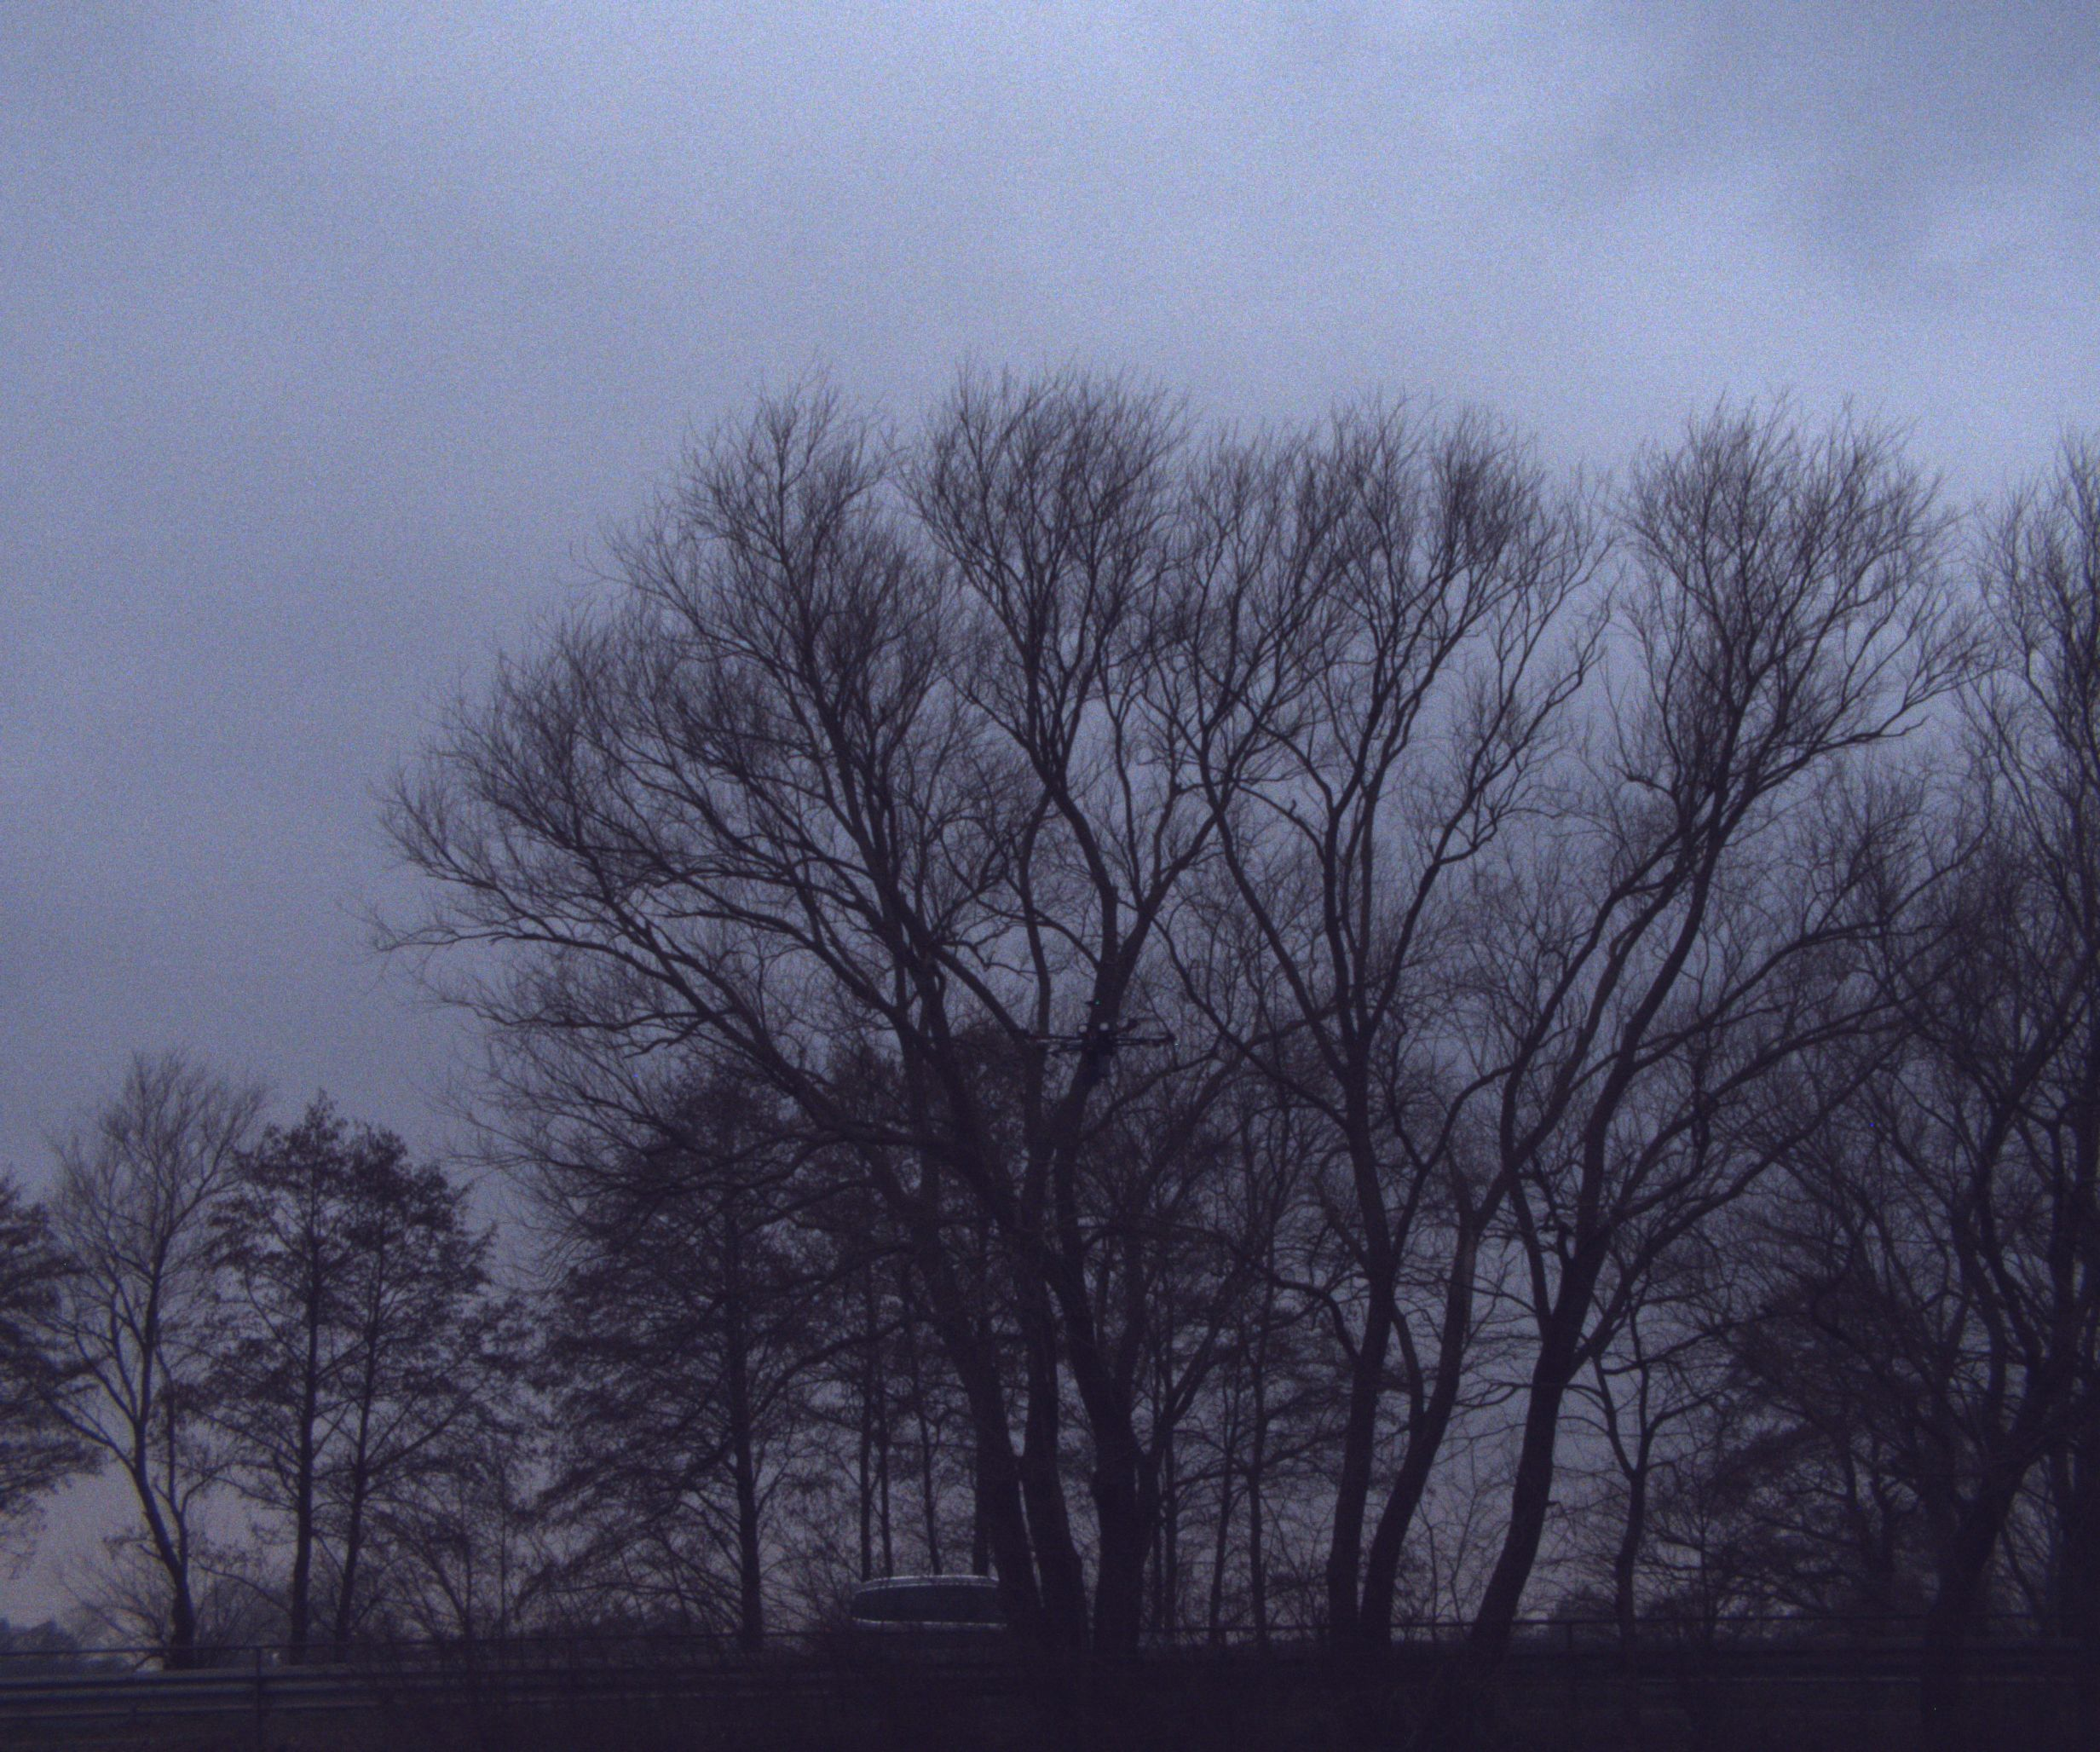Drohne: (1001, 966, 1254, 1152)
